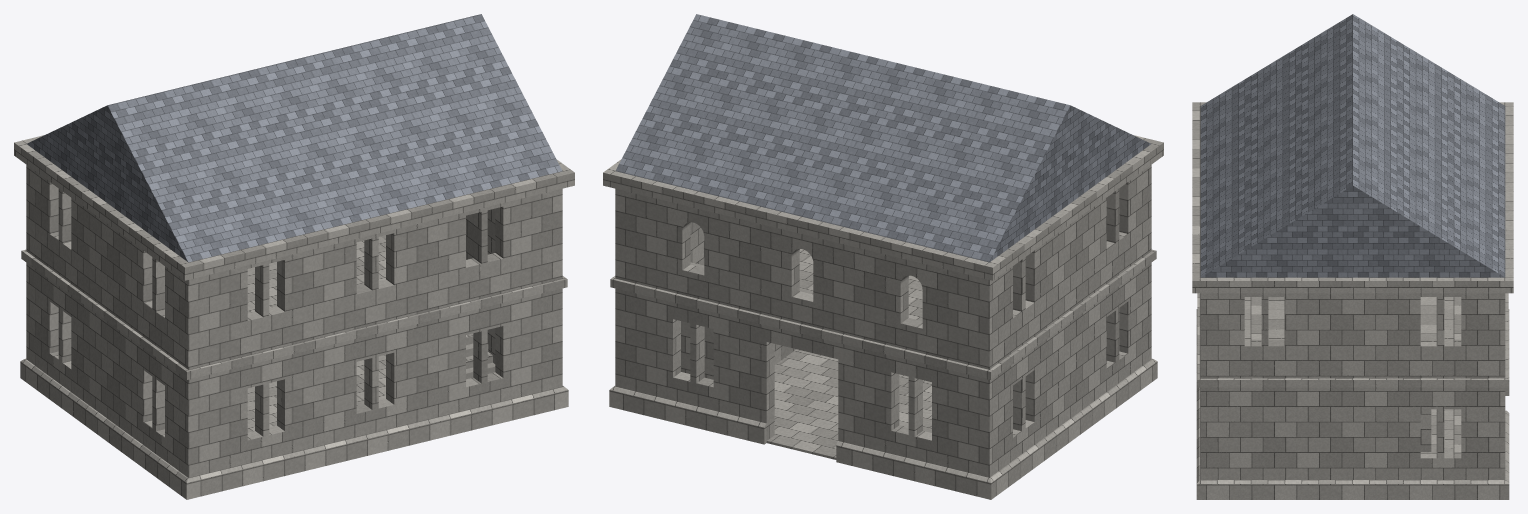
File: town_hall.glb
The picture shows the model from 3 angles, left to right: view 1: azimuth 30°, elevation 25°; view 2: azimuth 150°, elevation 25°; view 3: azimuth 270°, elevation 25°; orthographic projection. The views are drawn at different scales.
Visible parts, largest first — view 1: body_stone, roof_slate, trim_stone; view 2: body_stone, roof_slate, trim_stone; view 3: roof_slate, body_stone, trim_stone.
Part boxes in pixels (bbox=[...]): body_stone: bbox=[26, 165, 562, 477]; roof_slate: bbox=[27, 14, 562, 262]; trim_stone: bbox=[14, 135, 574, 499]; body_stone: bbox=[615, 165, 1151, 477]; roof_slate: bbox=[615, 14, 1150, 262]; trim_stone: bbox=[603, 135, 1163, 499]; roof_slate: bbox=[1200, 14, 1505, 277]; body_stone: bbox=[1200, 293, 1505, 479]; trim_stone: bbox=[1192, 102, 1513, 499].
Bounding box in the file's own units: 12.5 × 10.2 × 9.5.
3 materials, 3 textured.
